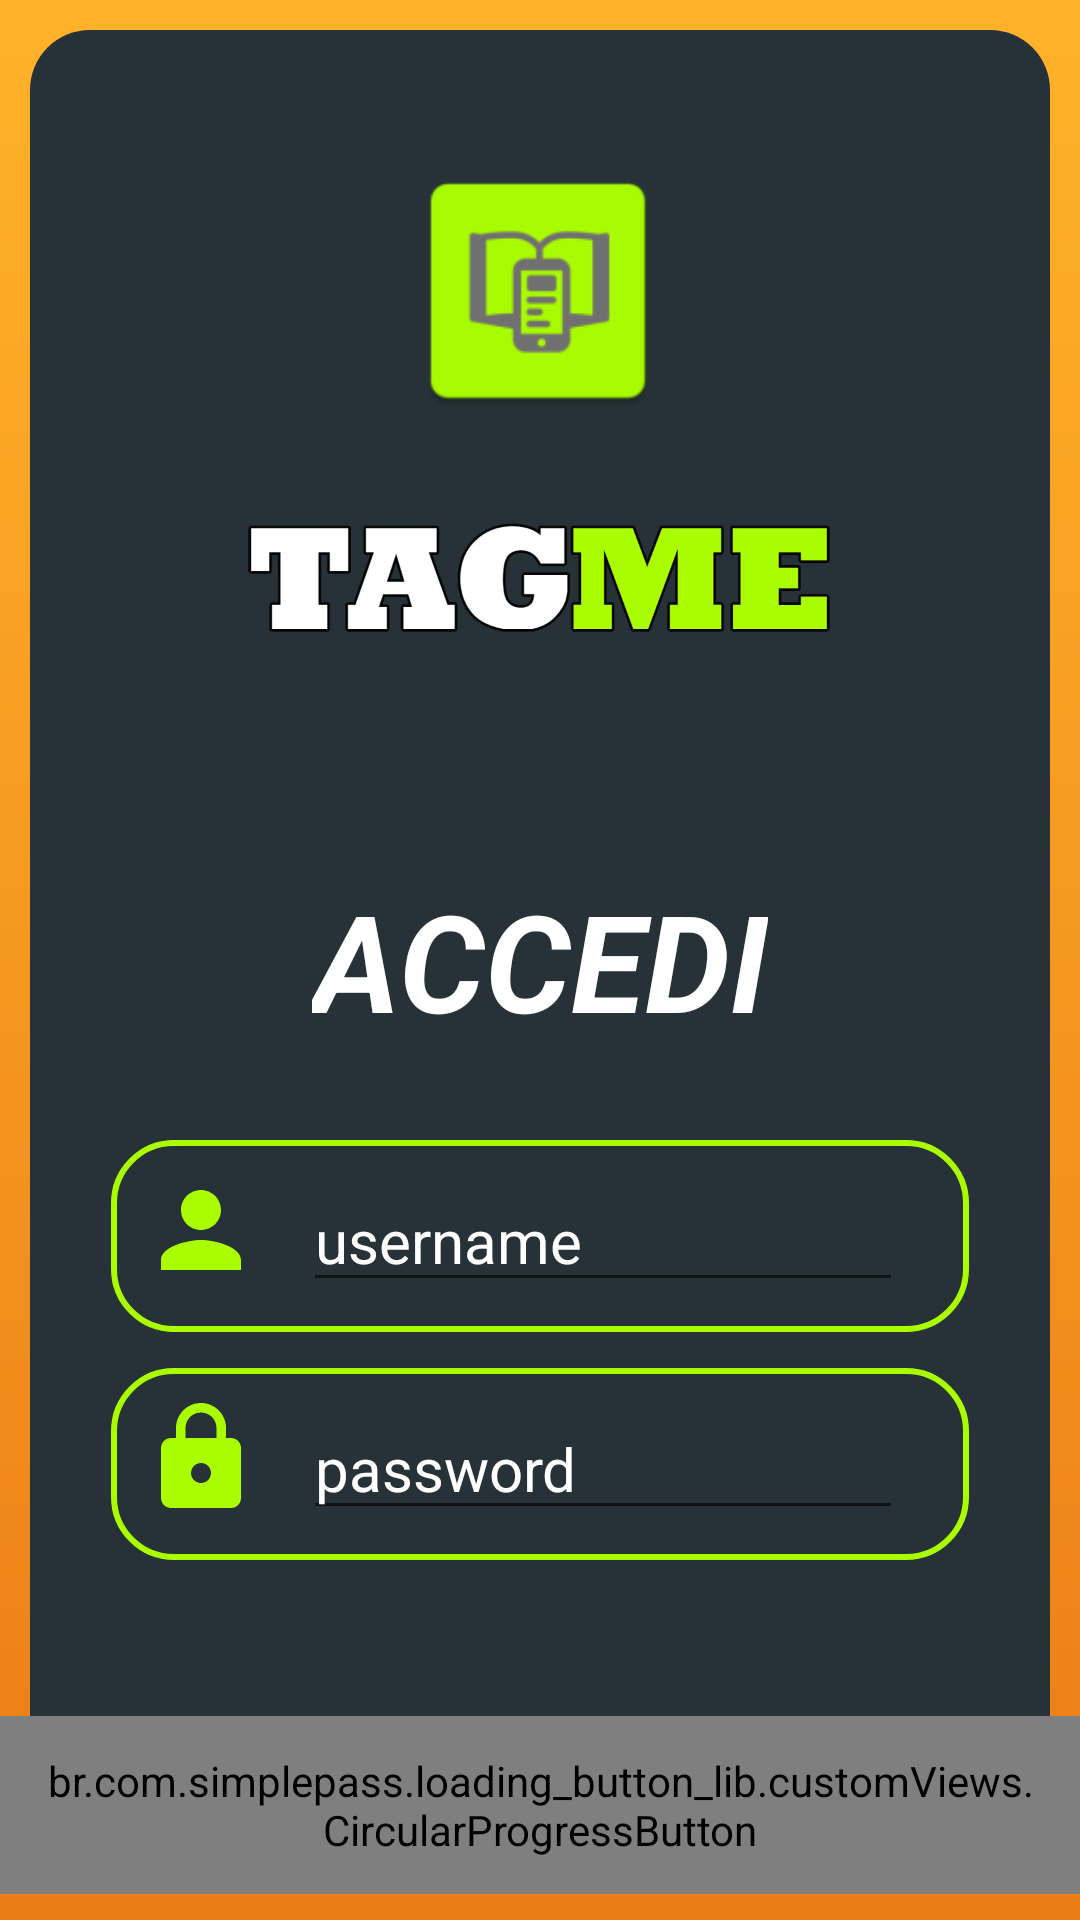

Screen size 1080 × 1920. Icon name, then its box in pixels as (x1,y1,x2,y2):
app: (430,183,646,399)
lock: (161,1403,241,1508)
